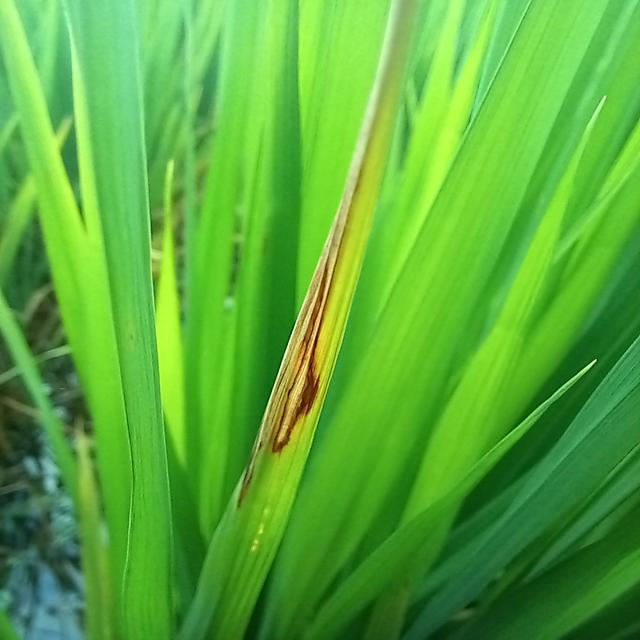Leaf_Blast: (238, 149, 374, 504)
